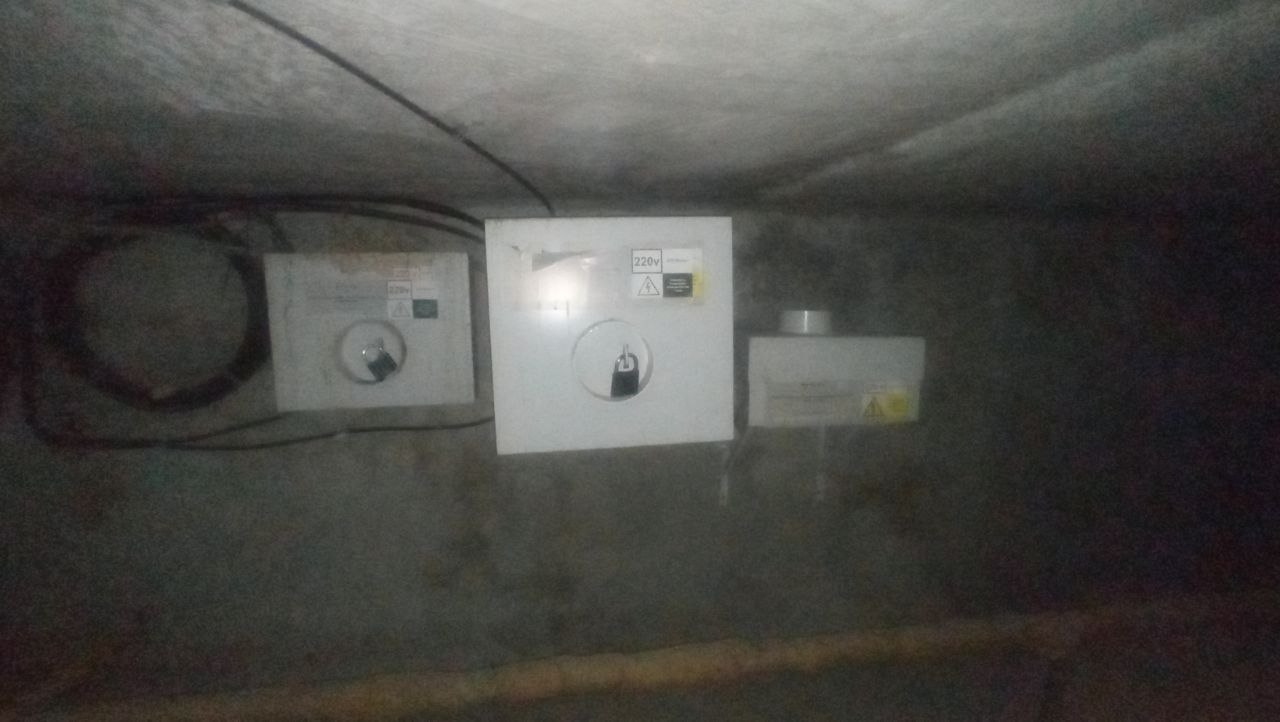shta-3: (245, 228, 490, 423)
shta-9: (469, 199, 748, 467)
shta-ps: (731, 295, 938, 448)
